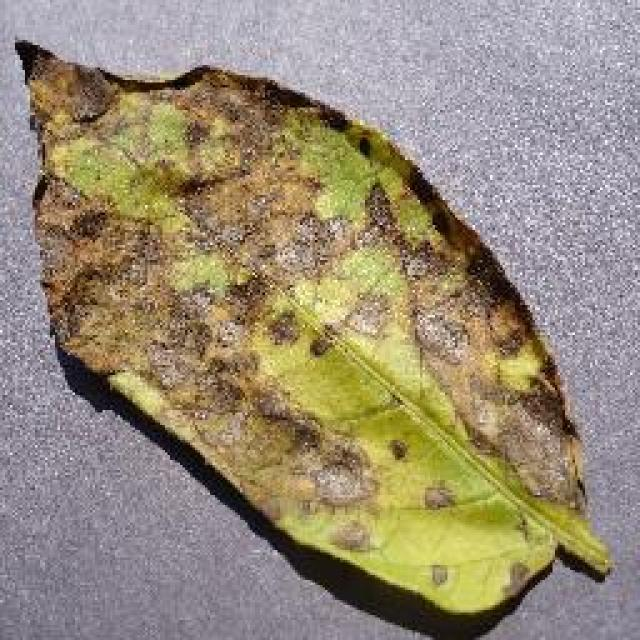early_blight: (10, 35, 615, 637)
